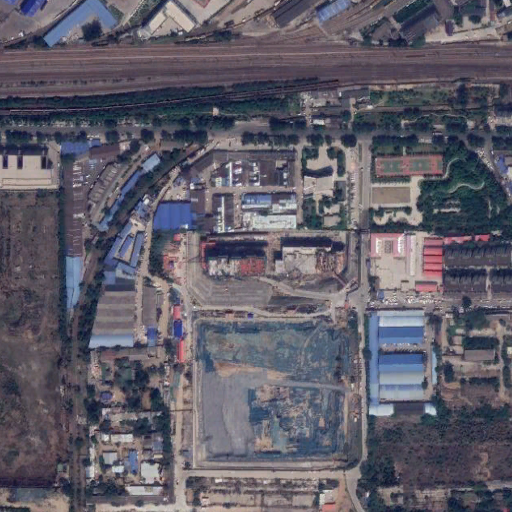cw: (192, 317, 360, 468)
